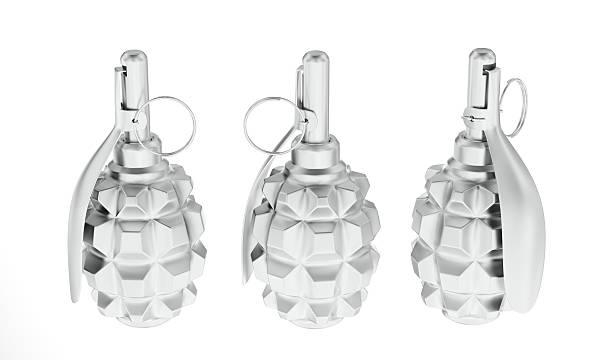e1: (230, 50, 385, 335), (65, 52, 210, 331), (413, 37, 547, 331)
